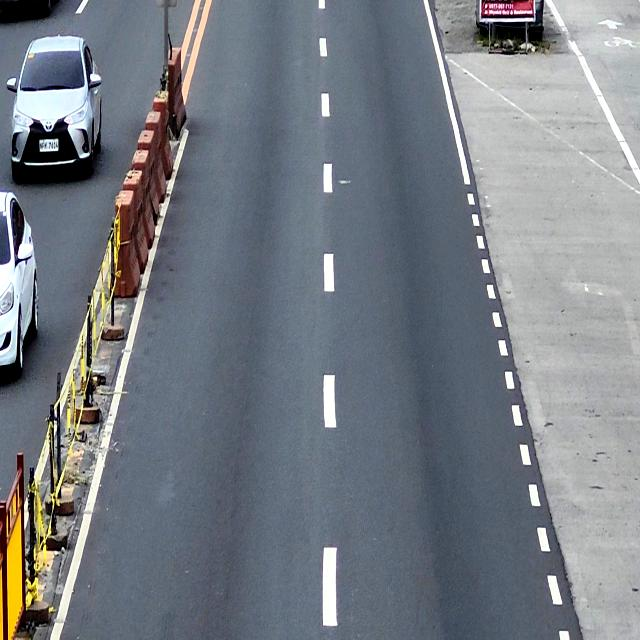Car: (7, 35, 104, 183), (0, 192, 39, 375)
License-Plate: (39, 139, 60, 152)
